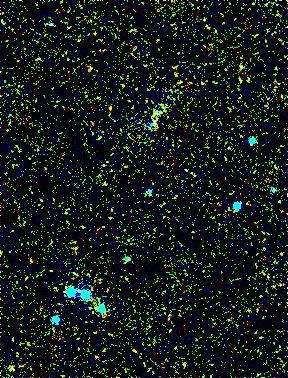star: (18, 247, 48, 277)
